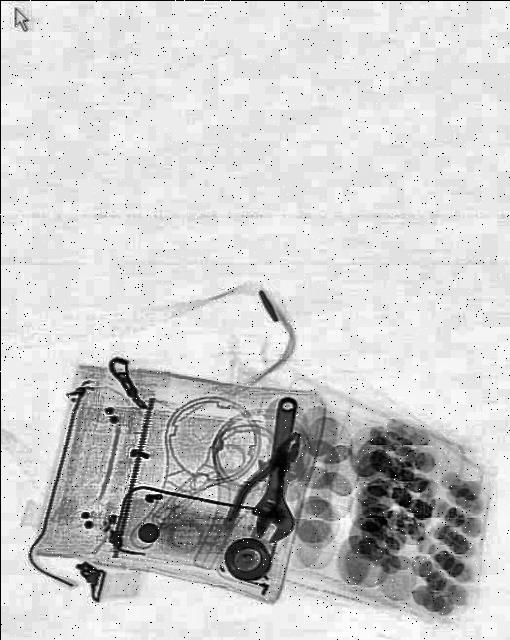Pliers: (222, 418, 312, 542)
Wrench: (246, 392, 304, 544)
